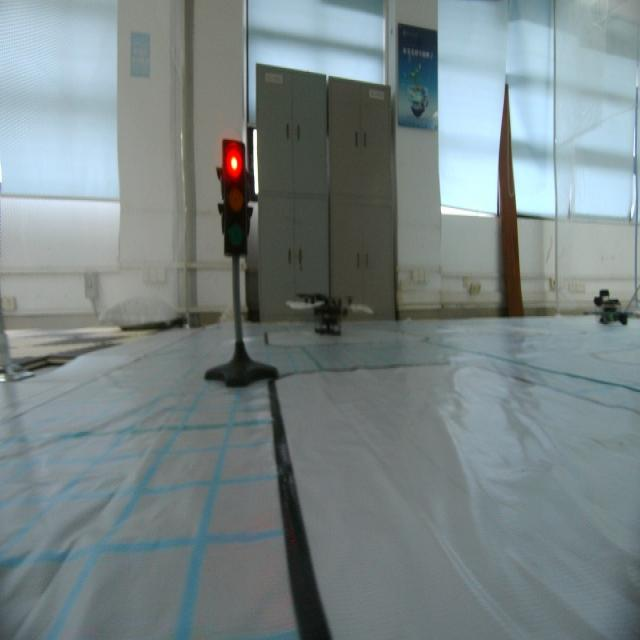red: (215, 138, 253, 262)
